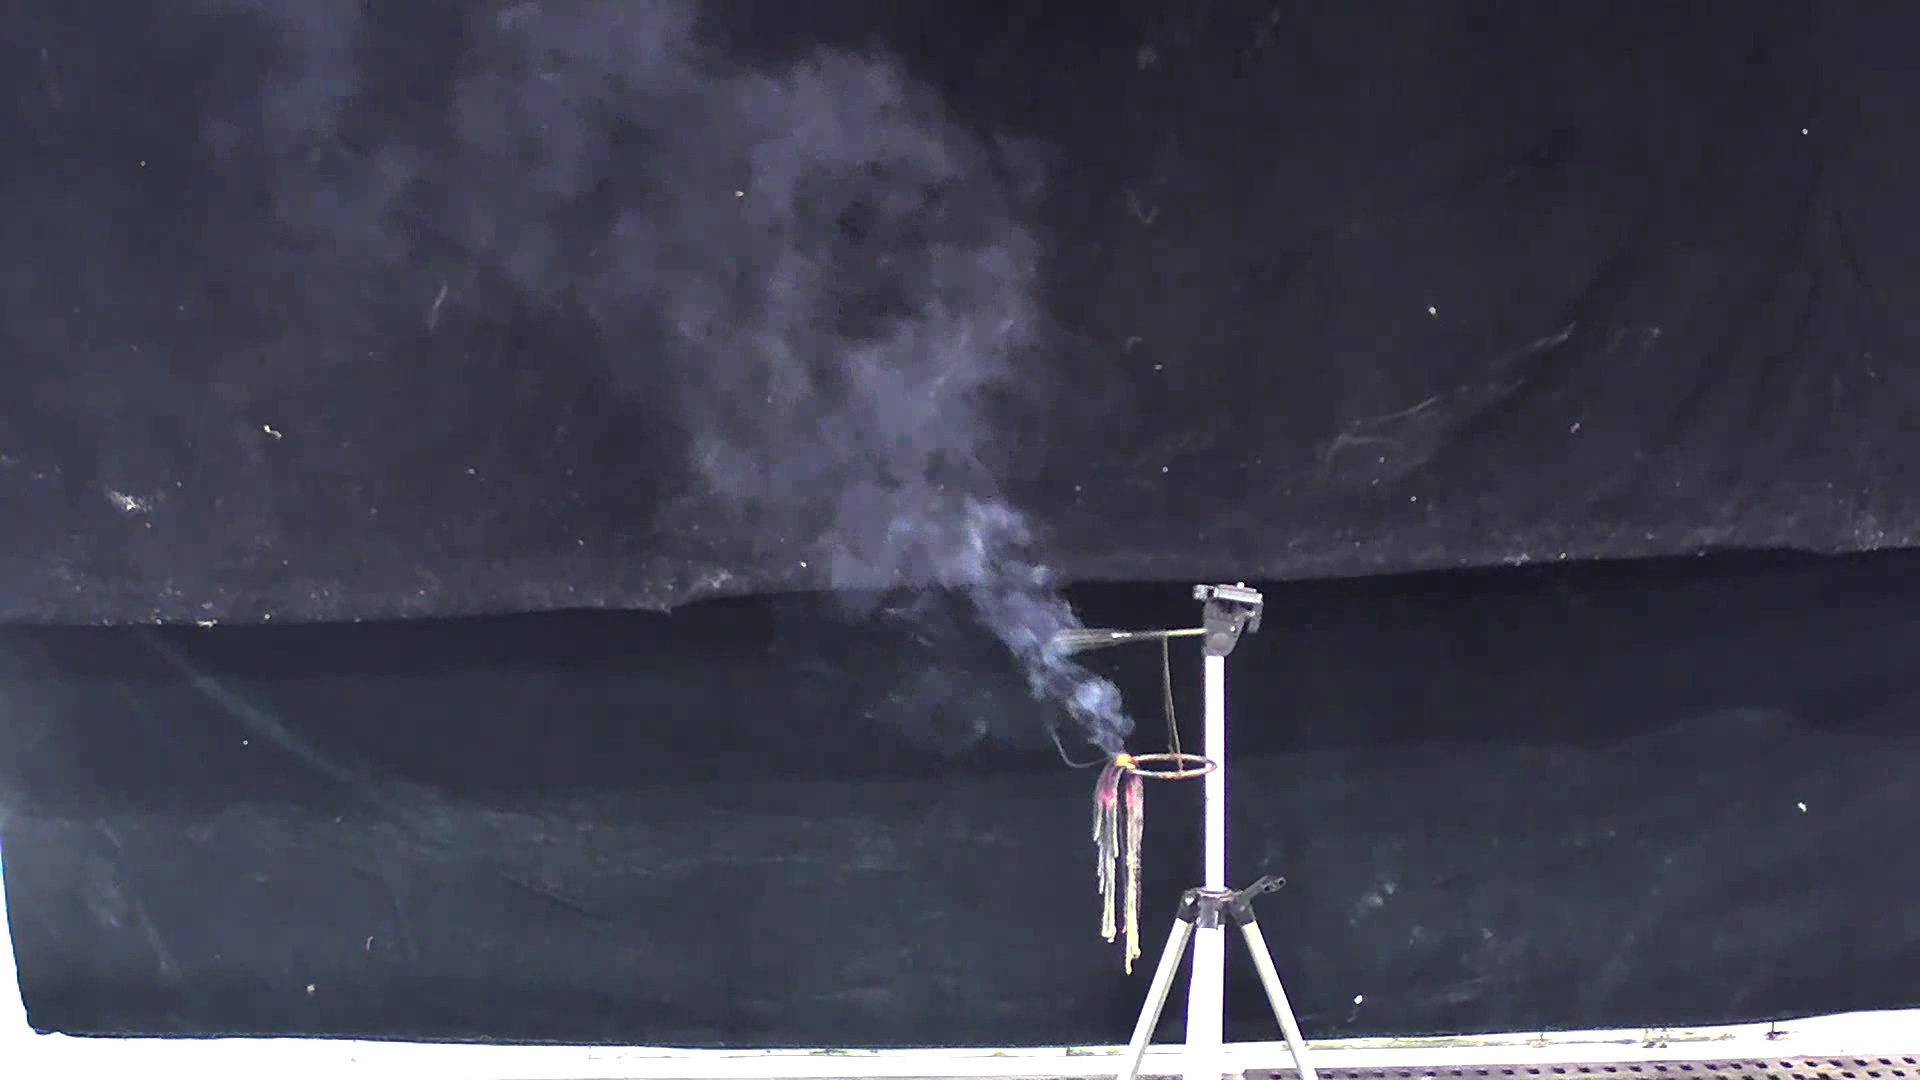smoke: (365, 18, 1145, 753)
